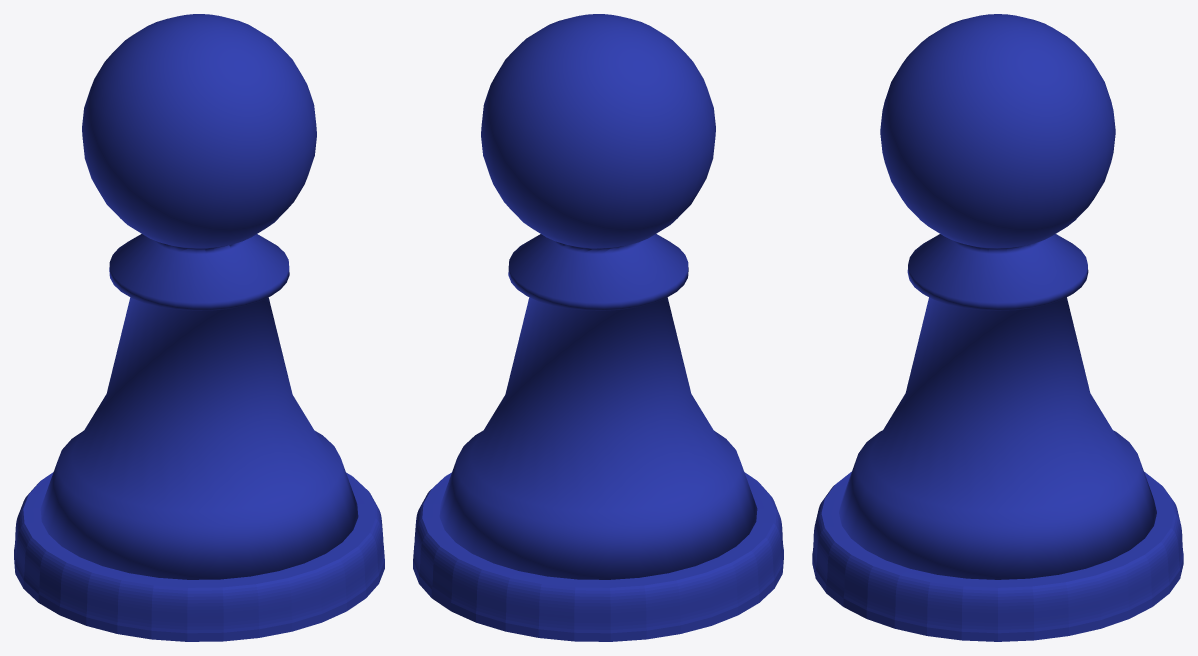
The model's file is Player team Pawn.fbx.
The picture shows the model from 3 angles, left to right: view 1: azimuth 30°, elevation 25°; view 2: azimuth 150°, elevation 25°; view 3: azimuth 270°, elevation 25°; orthographic projection.
Parts seen in each view (by area): view 1: Cylinder.001; view 2: Cylinder.001; view 3: Cylinder.001.
Part boxes in pixels (x1,y1,x2,y2): Cylinder.001: (14,14,384,641); Cylinder.001: (413,14,783,641); Cylinder.001: (812,14,1183,641).
Bounding box in the file's own units: 315 × 315 × 504.
